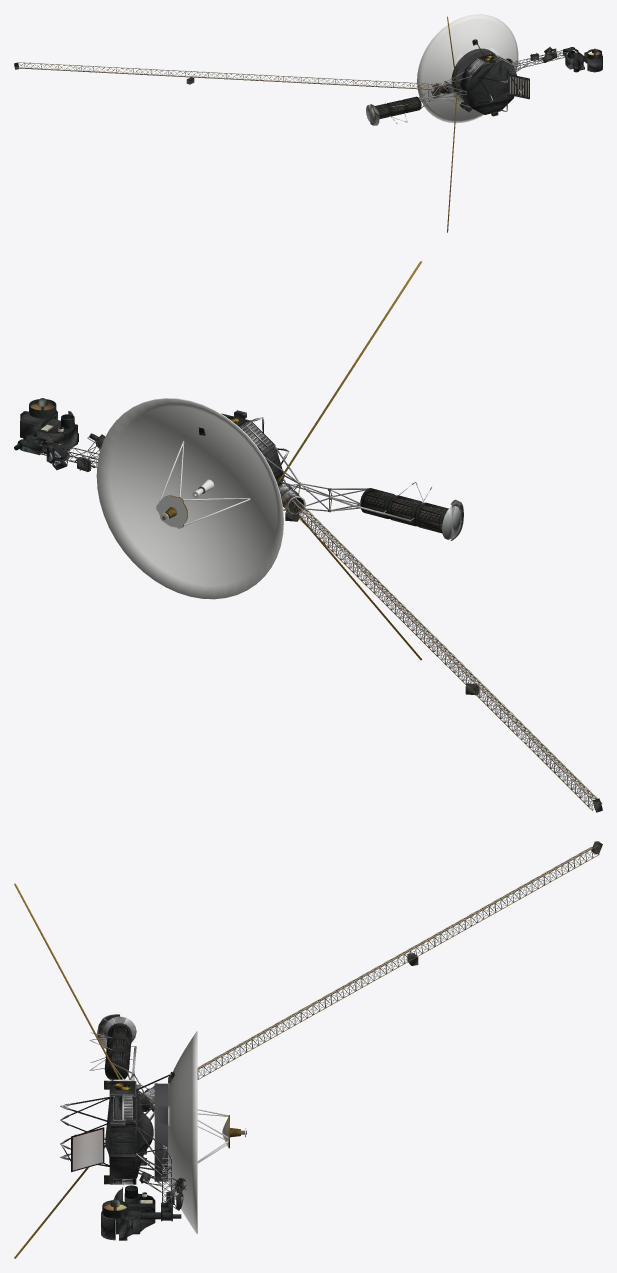
File: voyager_lod0.glb
3 renders of one model, top to bottom at view 1: azimuth 30°, elevation 25°; view 2: azimuth 150°, elevation 25°; view 3: azimuth 270°, elevation 25°, orthographic. The views are drawn at different scales.
Visible parts, largest first — view 1: voyager_lod0; view 2: voyager_lod0; view 3: voyager_lod0.
Part boxes in pixels (left/top/right/bottom): voyager_lod0: left=14, top=14, right=602, bottom=232; voyager_lod0: left=14, top=261, right=602, bottom=812; voyager_lod0: left=14, top=841, right=602, bottom=1258.
Bounding box in the file's own units: 16.41 × 7.52 × 10.71.
3 materials, 1 textured.
